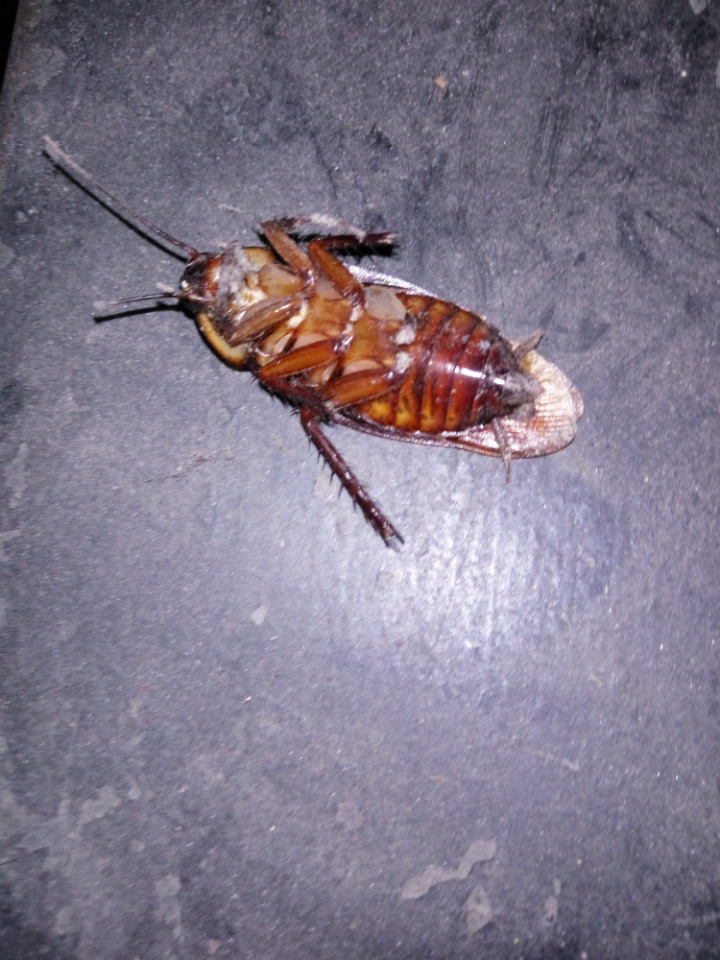cockroach: (21, 112, 615, 596)
